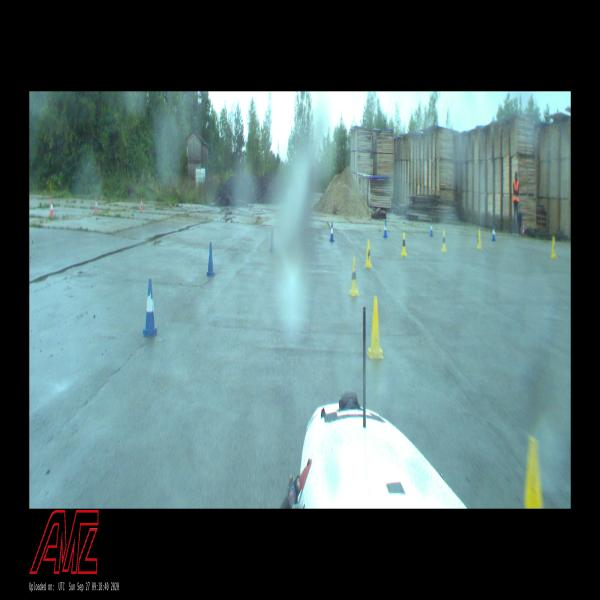blue_cone: (142, 278, 158, 334), (207, 242, 215, 276), (269, 227, 275, 253), (383, 219, 387, 238), (491, 226, 496, 241), (330, 223, 334, 241), (429, 220, 433, 237)
orange_cone: (49, 200, 54, 216), (94, 198, 98, 213), (140, 197, 143, 211)
yellow_cone: (521, 436, 544, 508), (367, 296, 384, 359), (348, 258, 360, 296), (364, 241, 372, 267), (401, 232, 406, 256), (550, 238, 556, 258), (441, 230, 446, 252), (476, 230, 482, 248)
